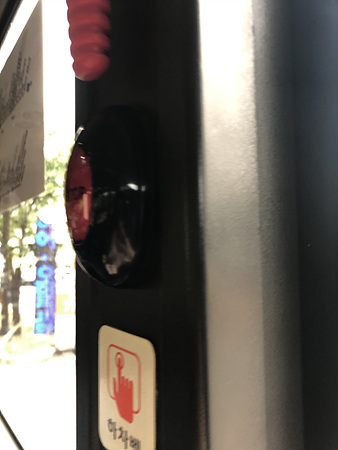bell: (63, 117, 158, 286)
